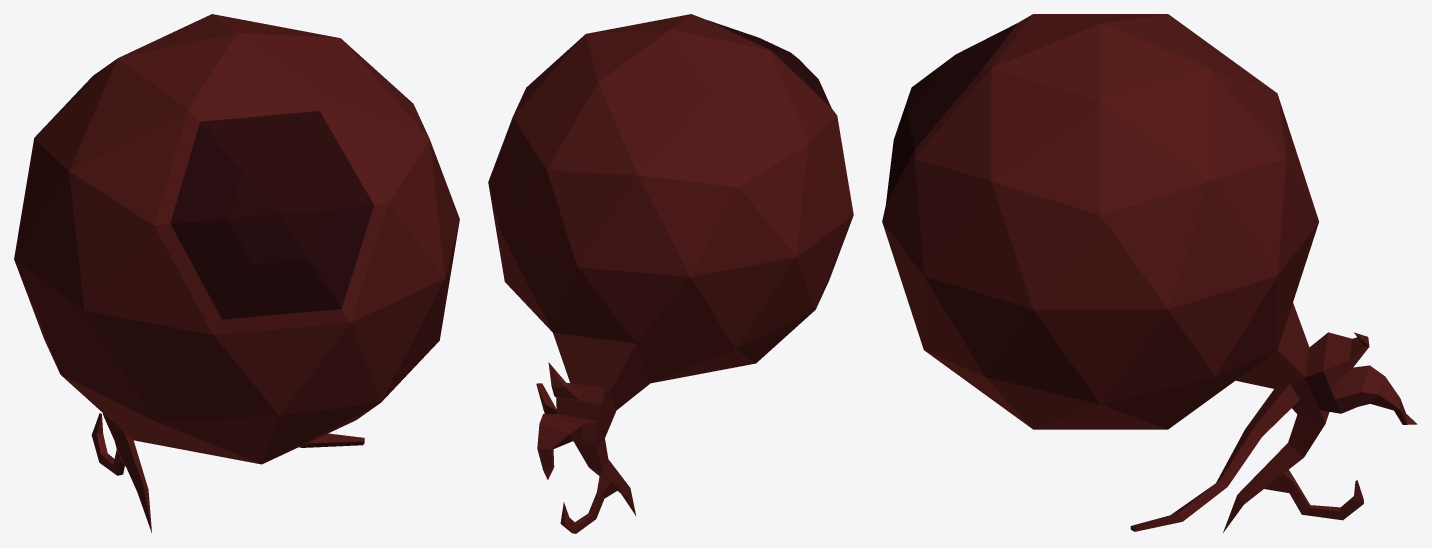
Rendered from Spidereye.fbx.
The picture shows the model from 3 angles, left to right: view 1: azimuth 30°, elevation 25°; view 2: azimuth 150°, elevation 25°; view 3: azimuth 270°, elevation 25°; orthographic projection. The views are drawn at different scales.
Visible parts, largest first — view 1: Icosphere; view 2: Icosphere; view 3: Icosphere.
Part boxes in pixels (<box>): Icosphere: <box>14,14,459,532</box>; Icosphere: <box>488,14,853,533</box>; Icosphere: <box>882,14,1417,532</box>.
Size of the model in its own units: 190 by 263 by 245.
